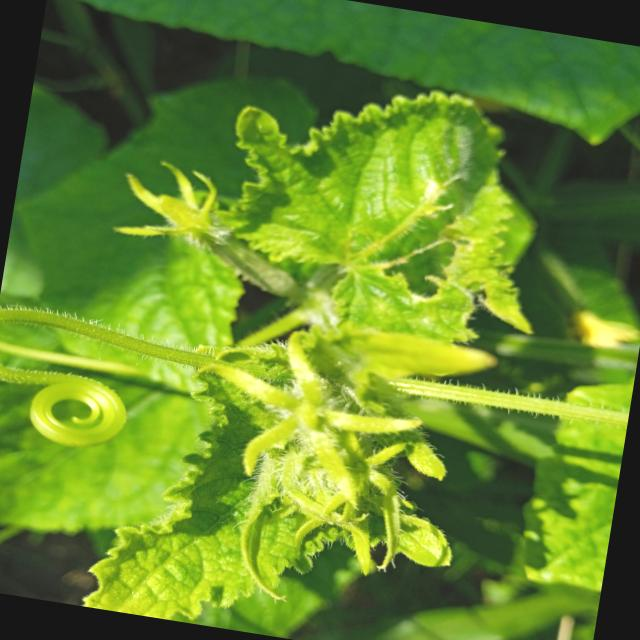cucumber_healthy: (73, 317, 482, 640), (202, 57, 568, 367)
